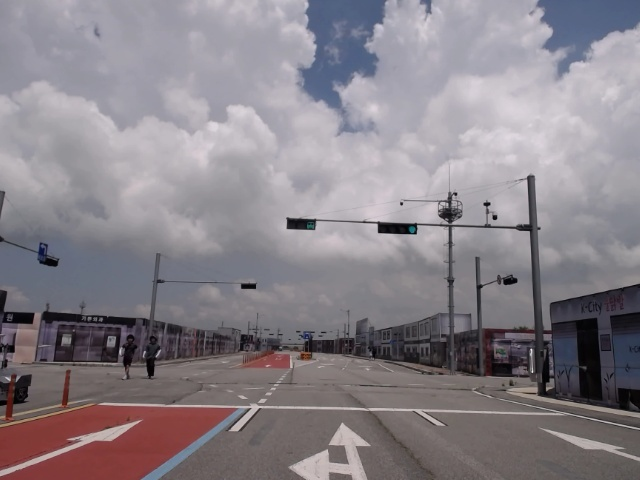straight_green_4: (376, 222, 417, 234)
